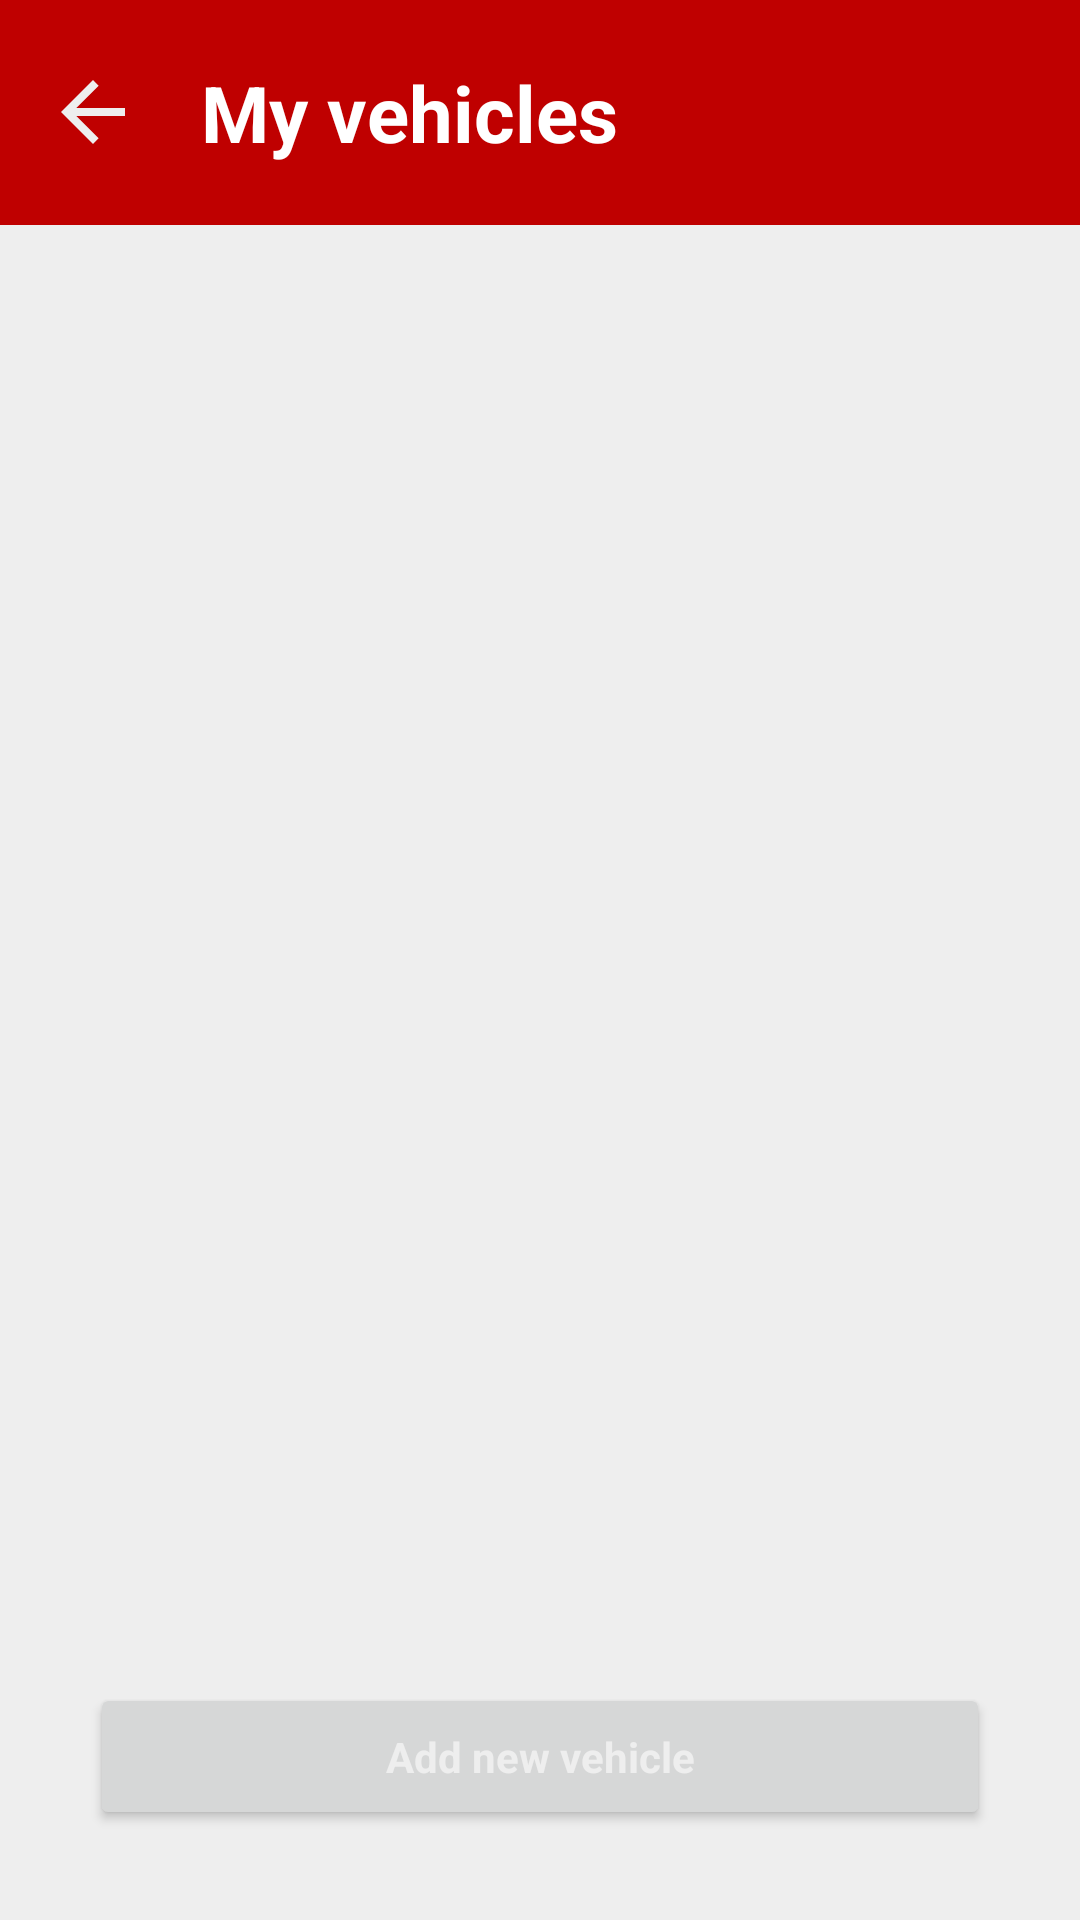

Named icons in this screenshot (1080px×1920px) and their centers, [x,y]:
arrow back: [93,112]
